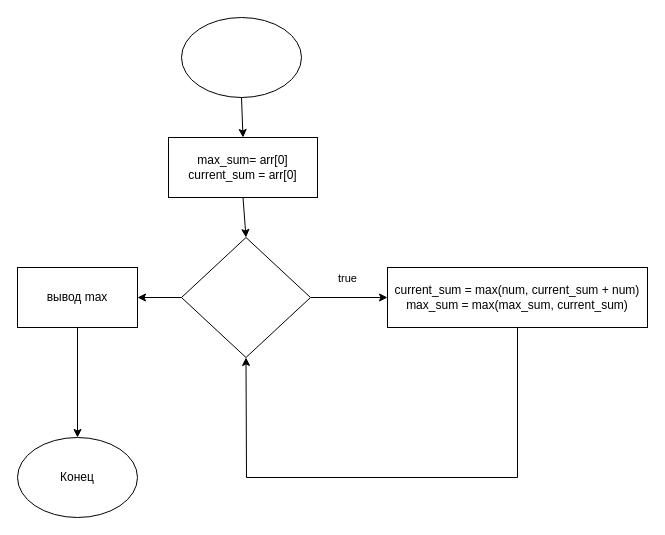
Some shapes in this 665 by 535 pixel diagram are drawn without their labels. The shapes that lost their labels are listed below. From the top down, each one's box as (x1, y1, x2, y2) in pixels, then its label:
(180, 16, 302, 98): Начало
(180, 236, 310, 358): for num in arr[1]
